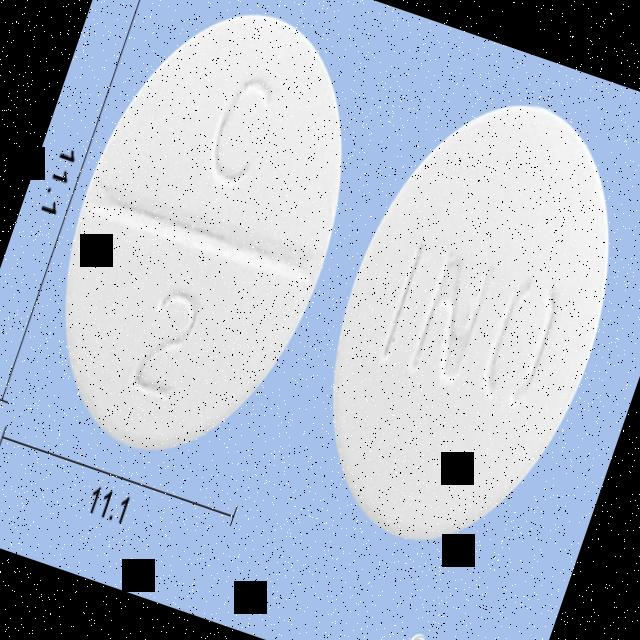Citopcin: (268, 55, 640, 591), (5, 0, 402, 497)
